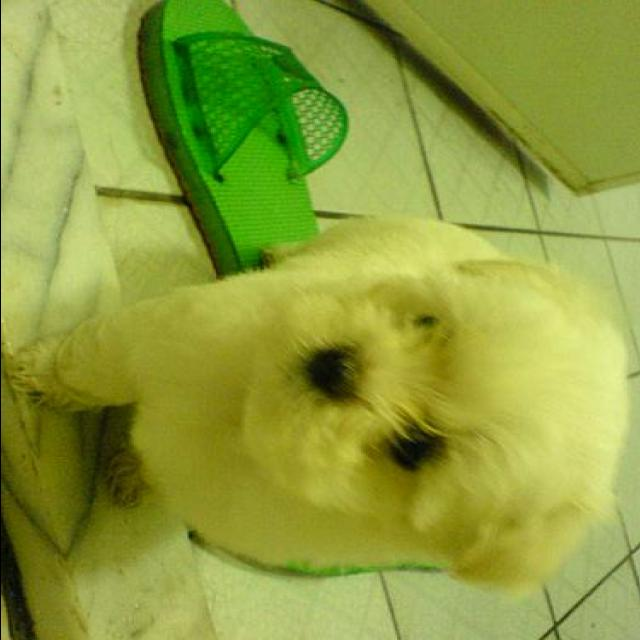maltese_dog: (7, 219, 624, 587)
